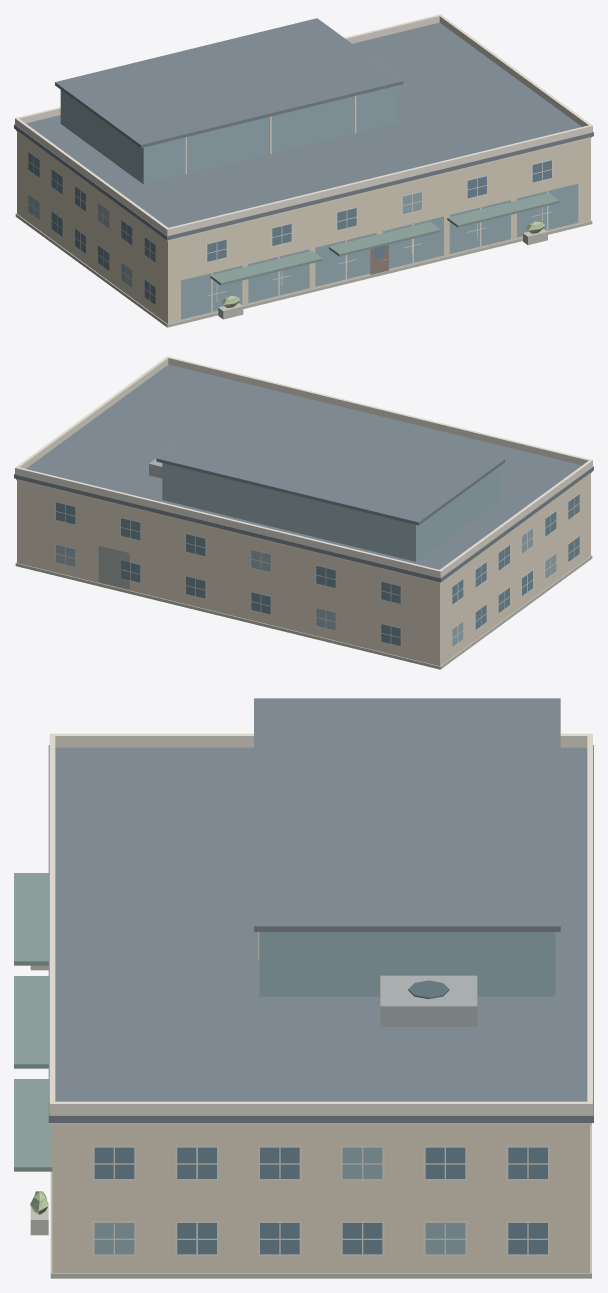
The model's file is office-glass-pavilion.glb.
3 views of the same model, one above another, from view 1: azimuth 30°, elevation 25°; view 2: azimuth 150°, elevation 25°; view 3: azimuth 270°, elevation 25° (orthographic). The views are drawn at different scales.
Parts seen in each view (by area): view 1: office-glass-pavilion; view 2: office-glass-pavilion; view 3: office-glass-pavilion.
Part boxes in pixels (<box>): office-glass-pavilion: <box>14,14,593,327</box>; office-glass-pavilion: <box>14,356,593,669</box>; office-glass-pavilion: <box>14,698,593,1278</box>.
Bounding box in the file's own units: 34.3 × 10.24 × 22.65.
